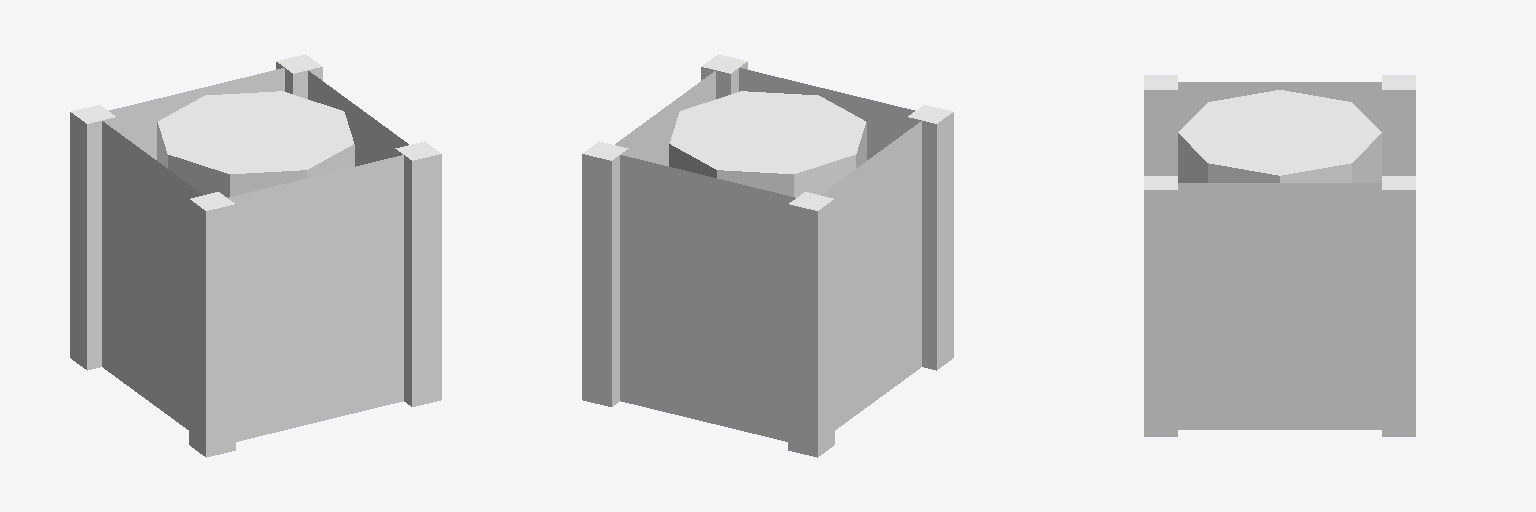
The model's file is pipe_framed_rusted.obj.
The picture shows the model from 3 angles: view 1: azimuth 30°, elevation 25°; view 2: azimuth 150°, elevation 25°; view 3: azimuth 270°, elevation 25°; orthographic projection.
Visible parts, largest first — view 1: Mesh, Frame, Top, Side; view 2: Mesh, Frame, Top, Side; view 3: Mesh, Frame, Top, Side.
Part boxes in pixels (left/top/right/bottom): Mesh: left=102, top=68, right=408, bottom=441; Frame: left=70, top=54, right=441, bottom=457; Top: left=158, top=91, right=353, bottom=173; Side: left=157, top=122, right=354, bottom=197; Mesh: left=615, top=68, right=921, bottom=441; Frame: left=582, top=54, right=953, bottom=457; Top: left=670, top=91, right=865, bottom=173; Side: left=669, top=122, right=866, bottom=197; Mesh: left=1178, top=82, right=1381, bottom=429; Frame: left=1144, top=75, right=1415, bottom=436; Top: left=1178, top=90, right=1381, bottom=175; Side: left=1178, top=133, right=1381, bottom=182.
Size of the model in its own units: 1 by 1 by 1.